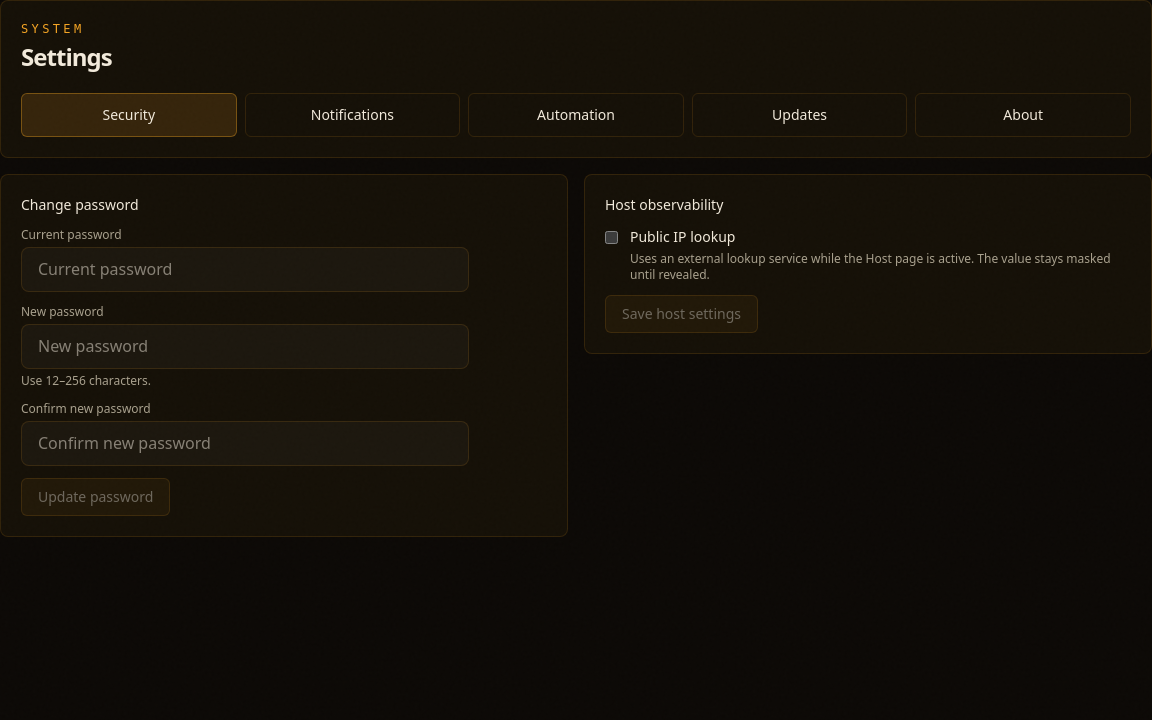
Test: SettingsPage › saves host observability settings
Expected: the heading "Host observability" is shown, [605,195,723,215]
Click the checkbox named "Enable public IP lookup": (612, 238) [605,231,618,244]
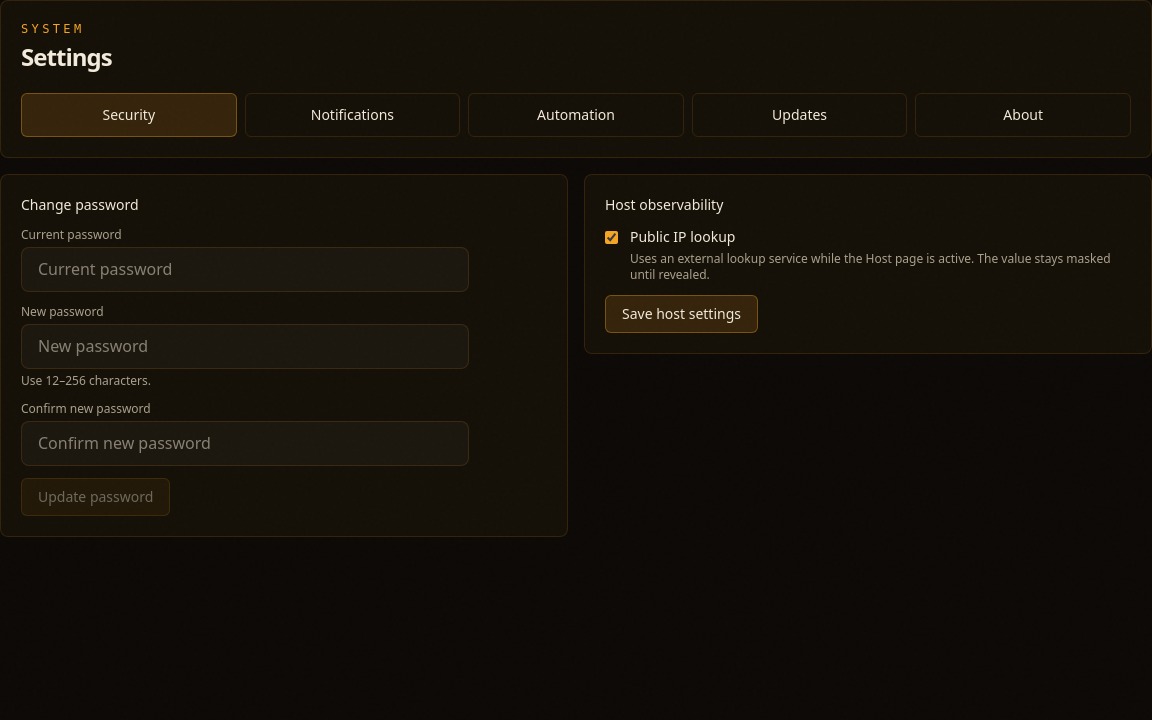
Click the button "Save host settings": (682, 314) [605,295,758,333]
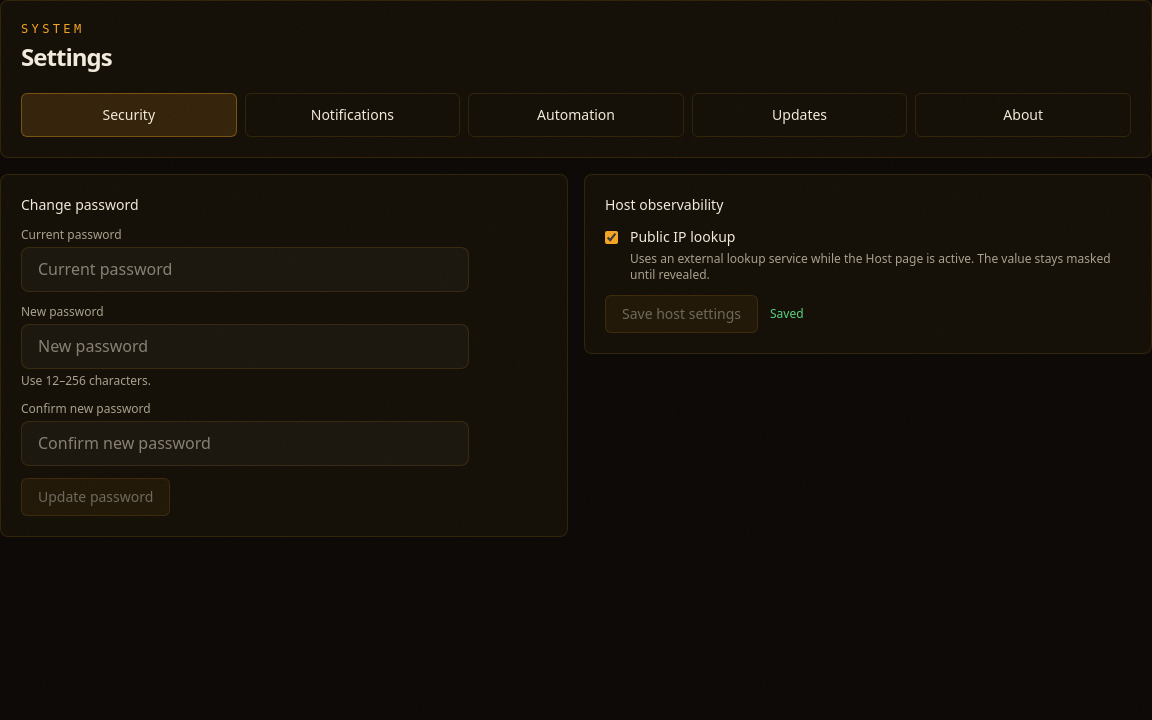
Expected: the text "Saved" is shown, [770,306,804,322]
